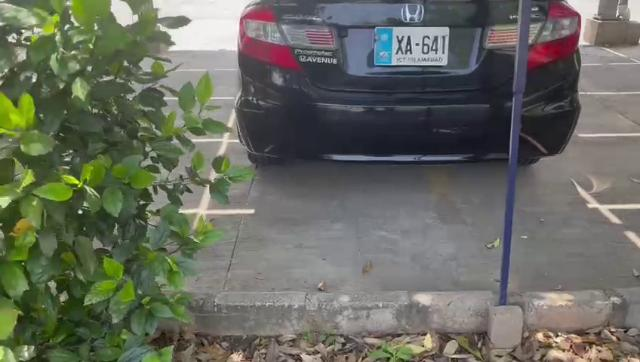plate: (372, 27, 450, 64)
